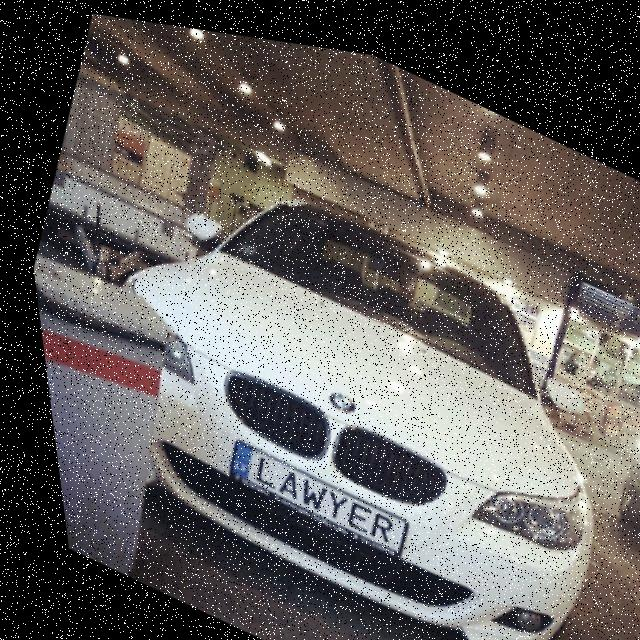license_plate: (210, 430, 401, 551)
